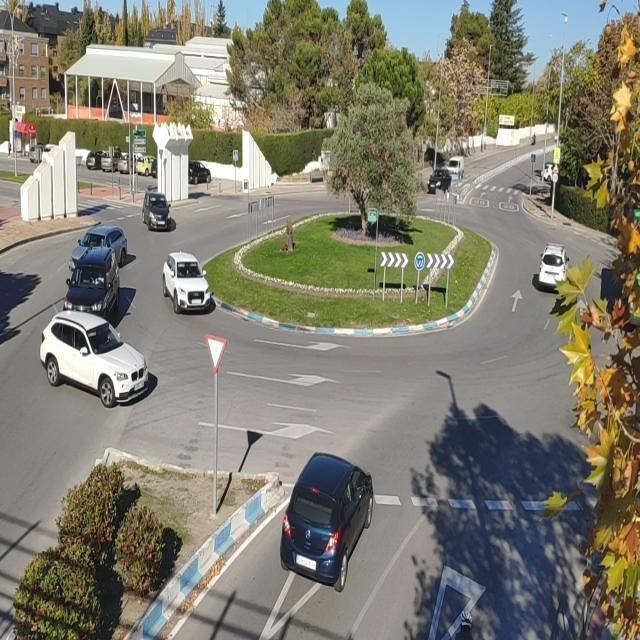Car: (281, 452, 373, 592), (40, 310, 149, 408), (63, 248, 121, 318), (162, 250, 212, 312), (70, 225, 128, 271), (537, 245, 570, 290), (142, 188, 172, 231), (118, 152, 145, 175), (427, 169, 451, 194), (188, 162, 212, 184), (100, 150, 124, 172), (132, 155, 156, 177), (86, 150, 111, 170), (28, 144, 52, 164), (446, 156, 465, 180), (542, 162, 558, 182)
